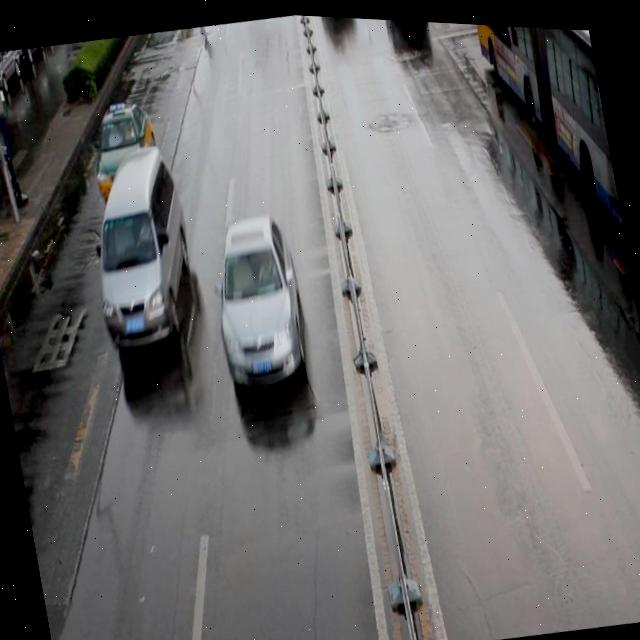car: (202, 207, 314, 391), (84, 95, 166, 209), (380, 15, 428, 29)
truck: (74, 137, 204, 352)
van: (468, 19, 624, 249)
